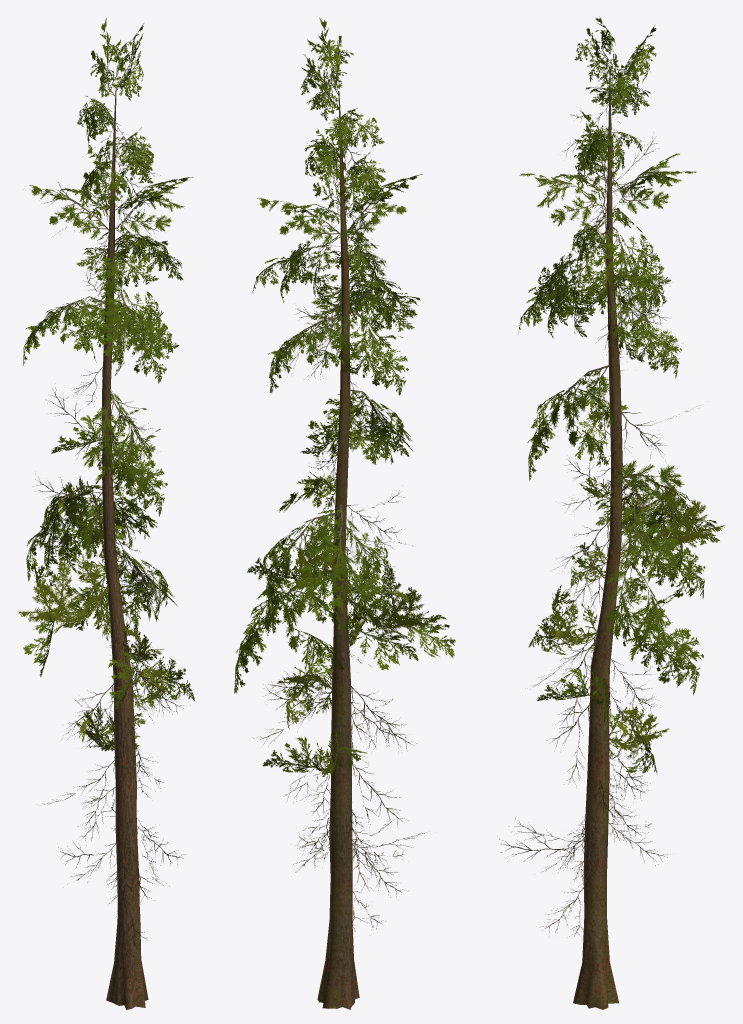
File: Pine.fbx
3 views of the same model, side by side, from view 1: azimuth 30°, elevation 25°; view 2: azimuth 150°, elevation 25°; view 3: azimuth 270°, elevation 25° (orthographic). The views are drawn at different scales.
Parts seen in each view (by area): view 1: Pine_A_LOD0; view 2: Pine_A_LOD0; view 3: Pine_A_LOD0.
Part boxes in pixels (x1=…): Pine_A_LOD0: x1=17, y1=18, x2=194, y2=1009; Pine_A_LOD0: x1=234, y1=17, x2=455, y2=1009; Pine_A_LOD0: x1=499, y1=17, x2=724, y2=1009.
Size of what is drawn, in the model's own units: 5.62 by 29.02 by 6.3.
